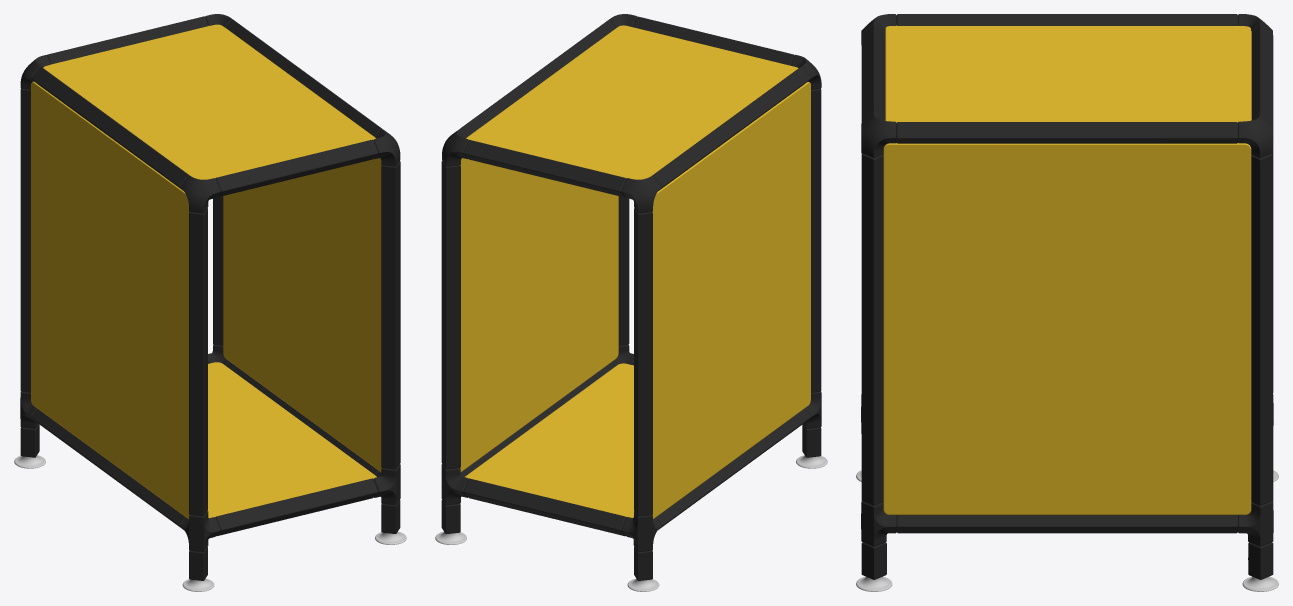
3 renders of one model, left to right at view 1: azimuth 30°, elevation 25°; view 2: azimuth 150°, elevation 25°; view 3: azimuth 270°, elevation 25°, orthographic. The views are drawn at different scales.
Visible parts, largest first — view 1: 229x374x420; view 2: 229x374x420; view 3: 229x374x420.
Part boxes in pixels (x1,y1,x2,y2): 229x374x420: (14,14,406,591); 229x374x420: (435,14,827,591); 229x374x420: (856,14,1278,591).
Size of the model in its own units: 0.3189 by 0.5593 by 0.4632.
